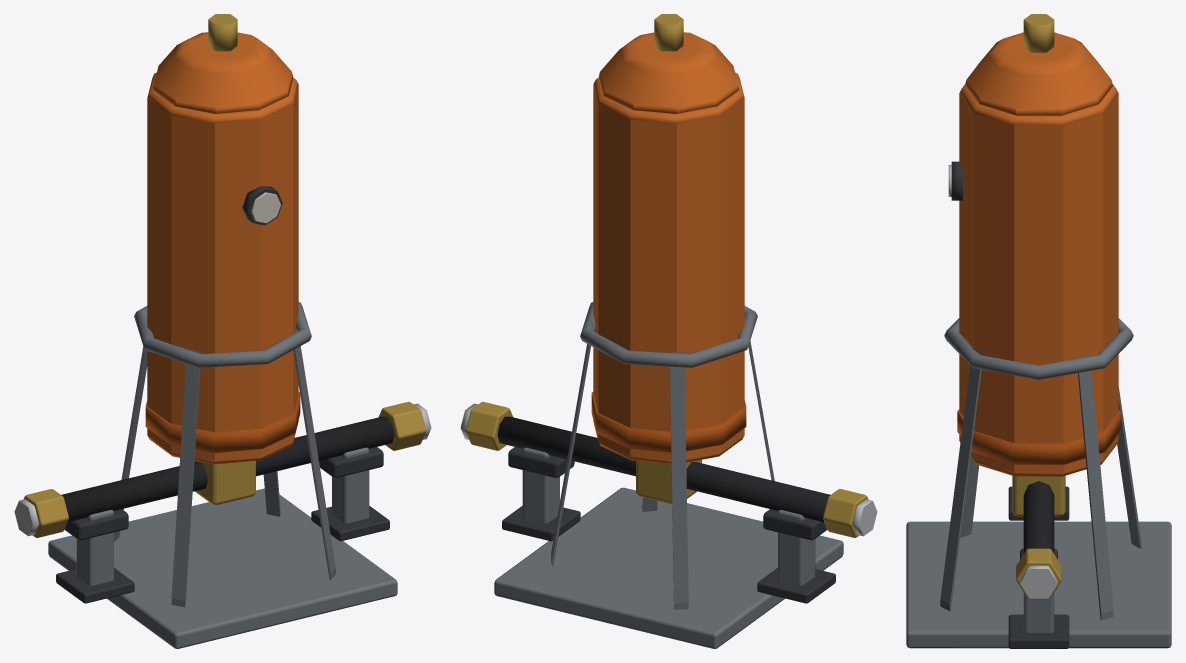
The model's file is pp_accum.glb.
The picture shows the model from 3 angles, left to right: view 1: azimuth 30°, elevation 25°; view 2: azimuth 150°, elevation 25°; view 3: azimuth 270°, elevation 25°; orthographic projection. The views are drawn at different scales.
Visible parts, largest first — view 1: cyl.007, block.001, cyl.008, cyl.001, bar.002, cyl.009, ring, bar.003, block, block.005, block.002, cyl.004 (+10 smaller); view 2: cyl.007, block.001, cyl.008, cyl.001, bar.001, ring, cyl.009, block.002, block.005, cyl.004, block.004, block (+7 smaller); view 3: cyl.007, block.001, cyl.008, bar, ring, cyl.009, bar.003, cyl.001, block.007, bar.001, block, block.005 (+6 smaller).
Boxes of the visible parts, x1=… form: cyl.007: x1=147, y1=72, x2=298, y2=464; block.001: x1=48, y1=488, x2=397, y2=648; cyl.008: x1=152, y1=32, x2=293, y2=113; cyl.001: x1=61, y1=416, x2=394, y2=521; bar.002: x1=171, y1=349, x2=200, y2=607; cyl.009: x1=145, y1=392, x2=300, y2=452; ring: x1=134, y1=302, x2=311, y2=367; bar.003: x1=292, y1=328, x2=335, y2=580; block: x1=194, y1=460, x2=255, y2=504; block.005: x1=332, y1=447, x2=369, y2=523; block.002: x1=76, y1=510, x2=113, y2=585; cyl.004: x1=379, y1=401, x2=425, y2=450; cyl.007: x1=593, y1=72, x2=744, y2=463; block.001: x1=494, y1=487, x2=843, y2=648; cyl.008: x1=598, y1=32, x2=739, y2=113; cyl.001: x1=497, y1=416, x2=830, y2=521; bar.001: x1=670, y1=352, x2=688, y2=609; ring: x1=580, y1=302, x2=757, y2=367; cyl.009: x1=591, y1=392, x2=746, y2=452; block.002: x1=778, y1=510, x2=815, y2=585; block.005: x1=522, y1=447, x2=559, y2=523; cyl.004: x1=466, y1=401, x2=512, y2=450; block.004: x1=757, y1=568, x2=835, y2=603; block: x1=636, y1=460, x2=701, y2=504; cyl.007: x1=959, y1=84, x2=1118, y2=476; block.001: x1=906, y1=521, x2=1171, y2=648; cyl.008: x1=965, y1=32, x2=1112, y2=115; bar: x1=1077, y1=355, x2=1113, y2=620; ring: x1=944, y1=318, x2=1133, y2=379; cyl.009: x1=957, y1=409, x2=1120, y2=464; bar.003: x1=940, y1=348, x2=982, y2=611; cyl.001: x1=1023, y1=481, x2=1054, y2=553; block.007: x1=1008, y1=614, x2=1069, y2=648; bar.001: x1=1117, y1=387, x2=1141, y2=548; block: x1=1012, y1=476, x2=1065, y2=516; block.005: x1=1023, y1=593, x2=1054, y2=632.
Size of the model in its own units: 1.25 by 1.67 by 0.7.
